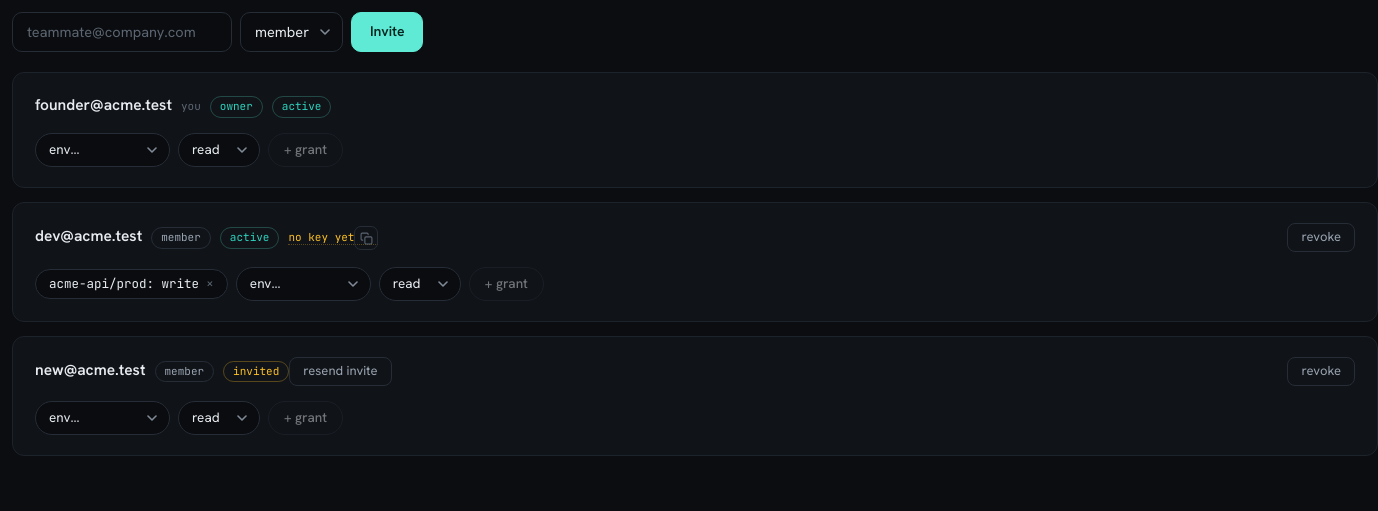
join codes (#66) › invited members get a resend button that surfaces a fresh code
Click the button "resend invite" at (340, 371), box [289,357,392,386]
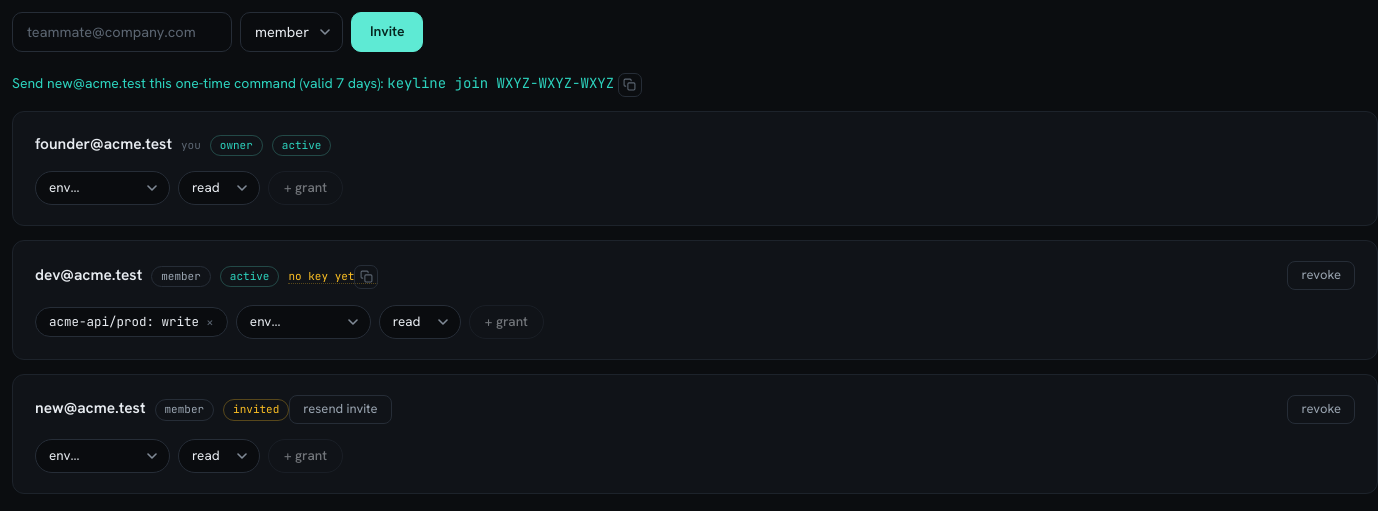
Now the text "keyline join WXYZ-WXYZ-WXYZ" is shown, box [387,74,614,92]
